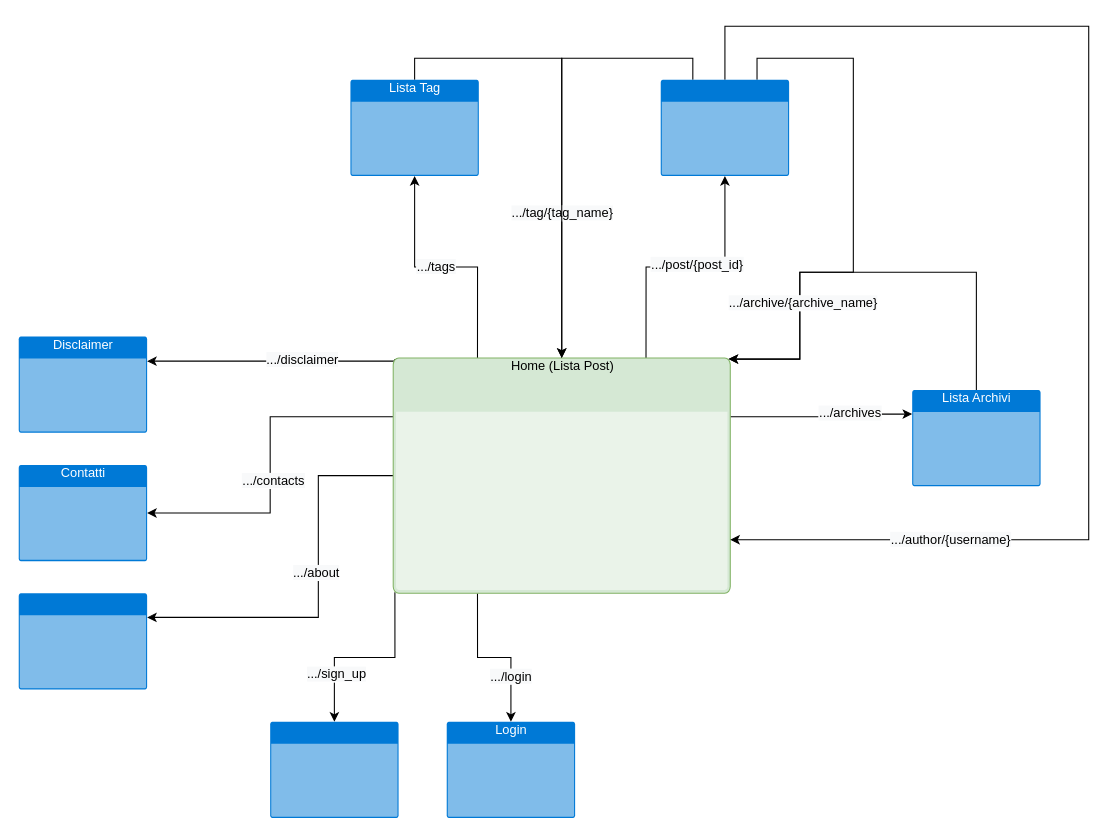
The diagram is 1116 pixels wide and 837 high, and some of its shapes have lost their labels. The shapes that lost their labels are listed below. From the top down, each one's centre as x and y in pixels, then its label:
At (x=724, y=127): "Dettagli Post".
At (x=82, y=641): "Chi SIamo".
At (x=334, y=769): "Registrati".
